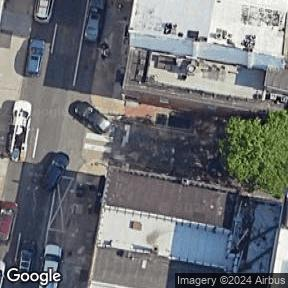vegetation: (219, 110, 288, 198)
